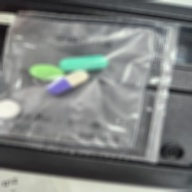러키펜정: (0, 100, 21, 120)
씨엠지세파클러캡슐: (46, 71, 89, 96)
에르도캡슐: (58, 55, 109, 72)
휴티렌정: (29, 65, 65, 80)
